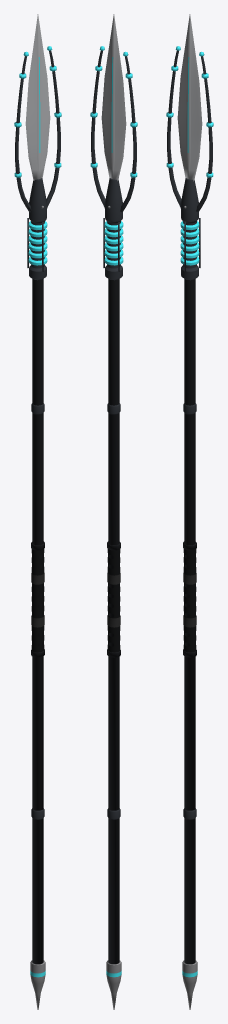
The model's file is gear_neon_pike.glb.
3 renders of one model, left to right at view 1: azimuth 30°, elevation 25°; view 2: azimuth 150°, elevation 25°; view 3: azimuth 330°, elevation 25°, orthographic.
Visible parts, largest first — view 1: gear_neon_pike; view 2: gear_neon_pike; view 3: gear_neon_pike.
Part boxes in pixels (x1=…): gear_neon_pike: x1=14, y1=14, x2=61, y2=1009; gear_neon_pike: x1=90, y1=14, x2=137, y2=1009; gear_neon_pike: x1=166, y1=14, x2=213, y2=1009.
Size of the model in its own units: 0.1272 by 2.61 by 0.0502.
